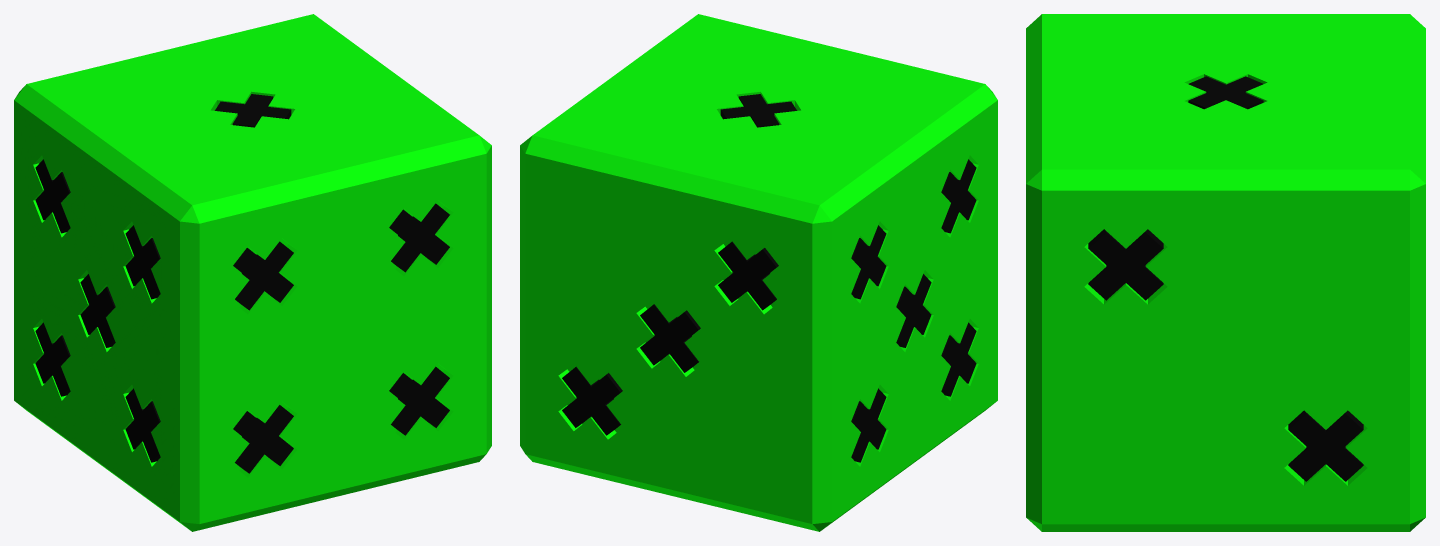
File: 3_multiply_dice_green.gltf
The picture shows the model from 3 angles, left to right: view 1: azimuth 30°, elevation 25°; view 2: azimuth 150°, elevation 25°; view 3: azimuth 270°, elevation 25°; orthographic projection. The views are drawn at different scales.
Visible parts, largest first — view 1: D6_Dice_Green; view 2: D6_Dice_Green; view 3: D6_Dice_Green.
Part boxes in pixels (<box>): D6_Dice_Green: <box>14,14,491,531</box>; D6_Dice_Green: <box>520,14,997,531</box>; D6_Dice_Green: <box>1026,14,1425,531</box>.
Size of the model in its own units: 2 by 2 by 2.
